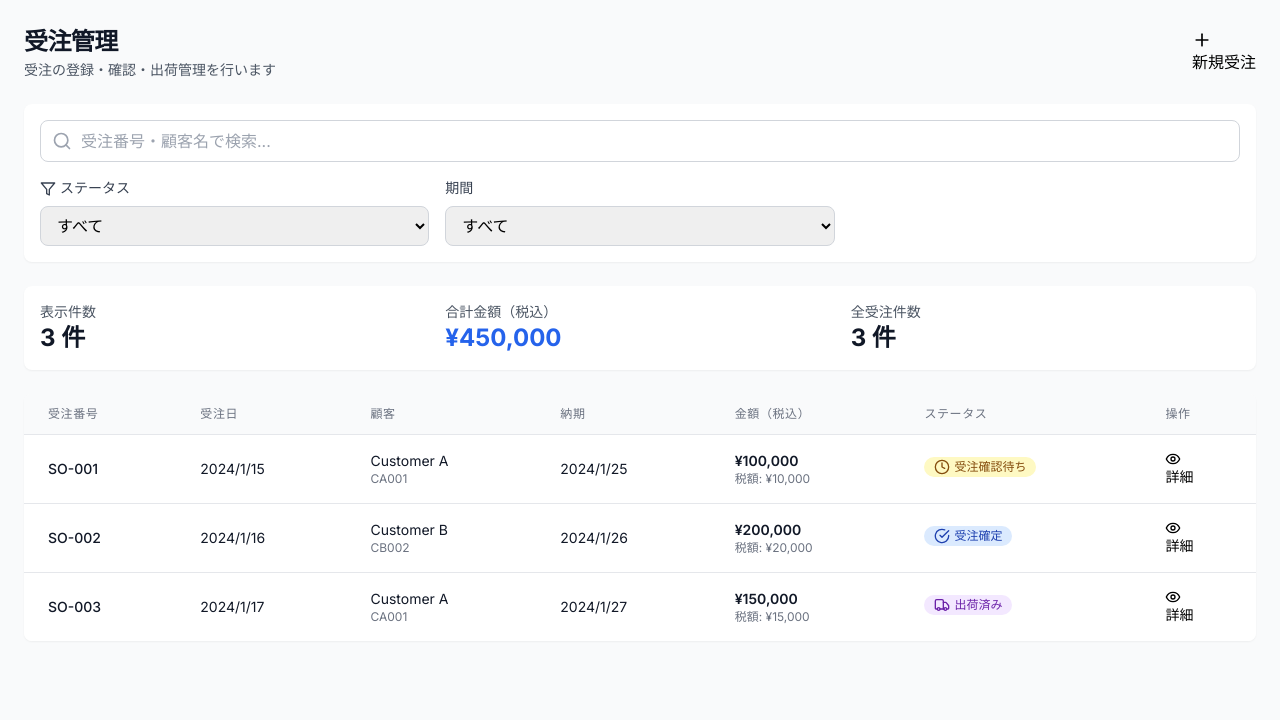
Test: SalesOrders › Search and Filter › should filter by status
The width and height of the screenshot is (1280, 720).
Expected: the text "SO-001" is shown, [48,460,98,477]
Select "受注確定" in the 1st dropdown at (235, 226), box [40,206,429,246]
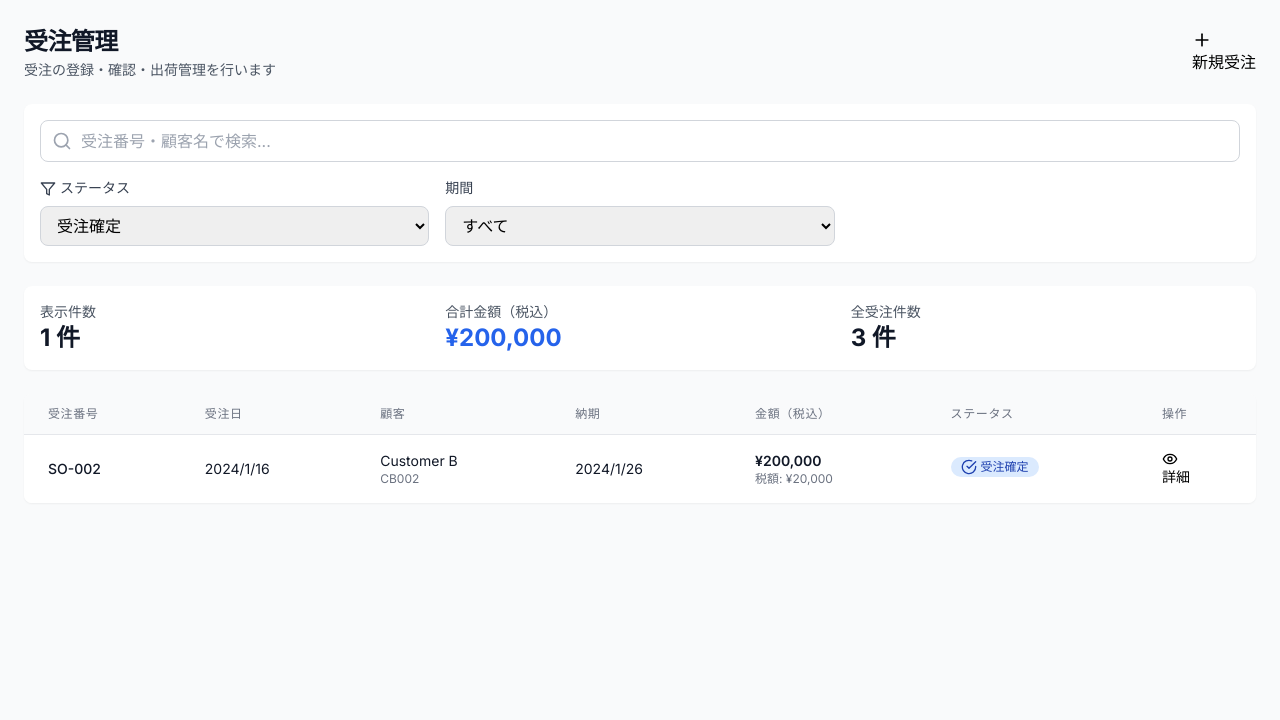
Expected: the text "SO-002" is shown, [48,460,101,477]
Result: the text "SO-001" is gone
Result: the text "SO-003" is gone
